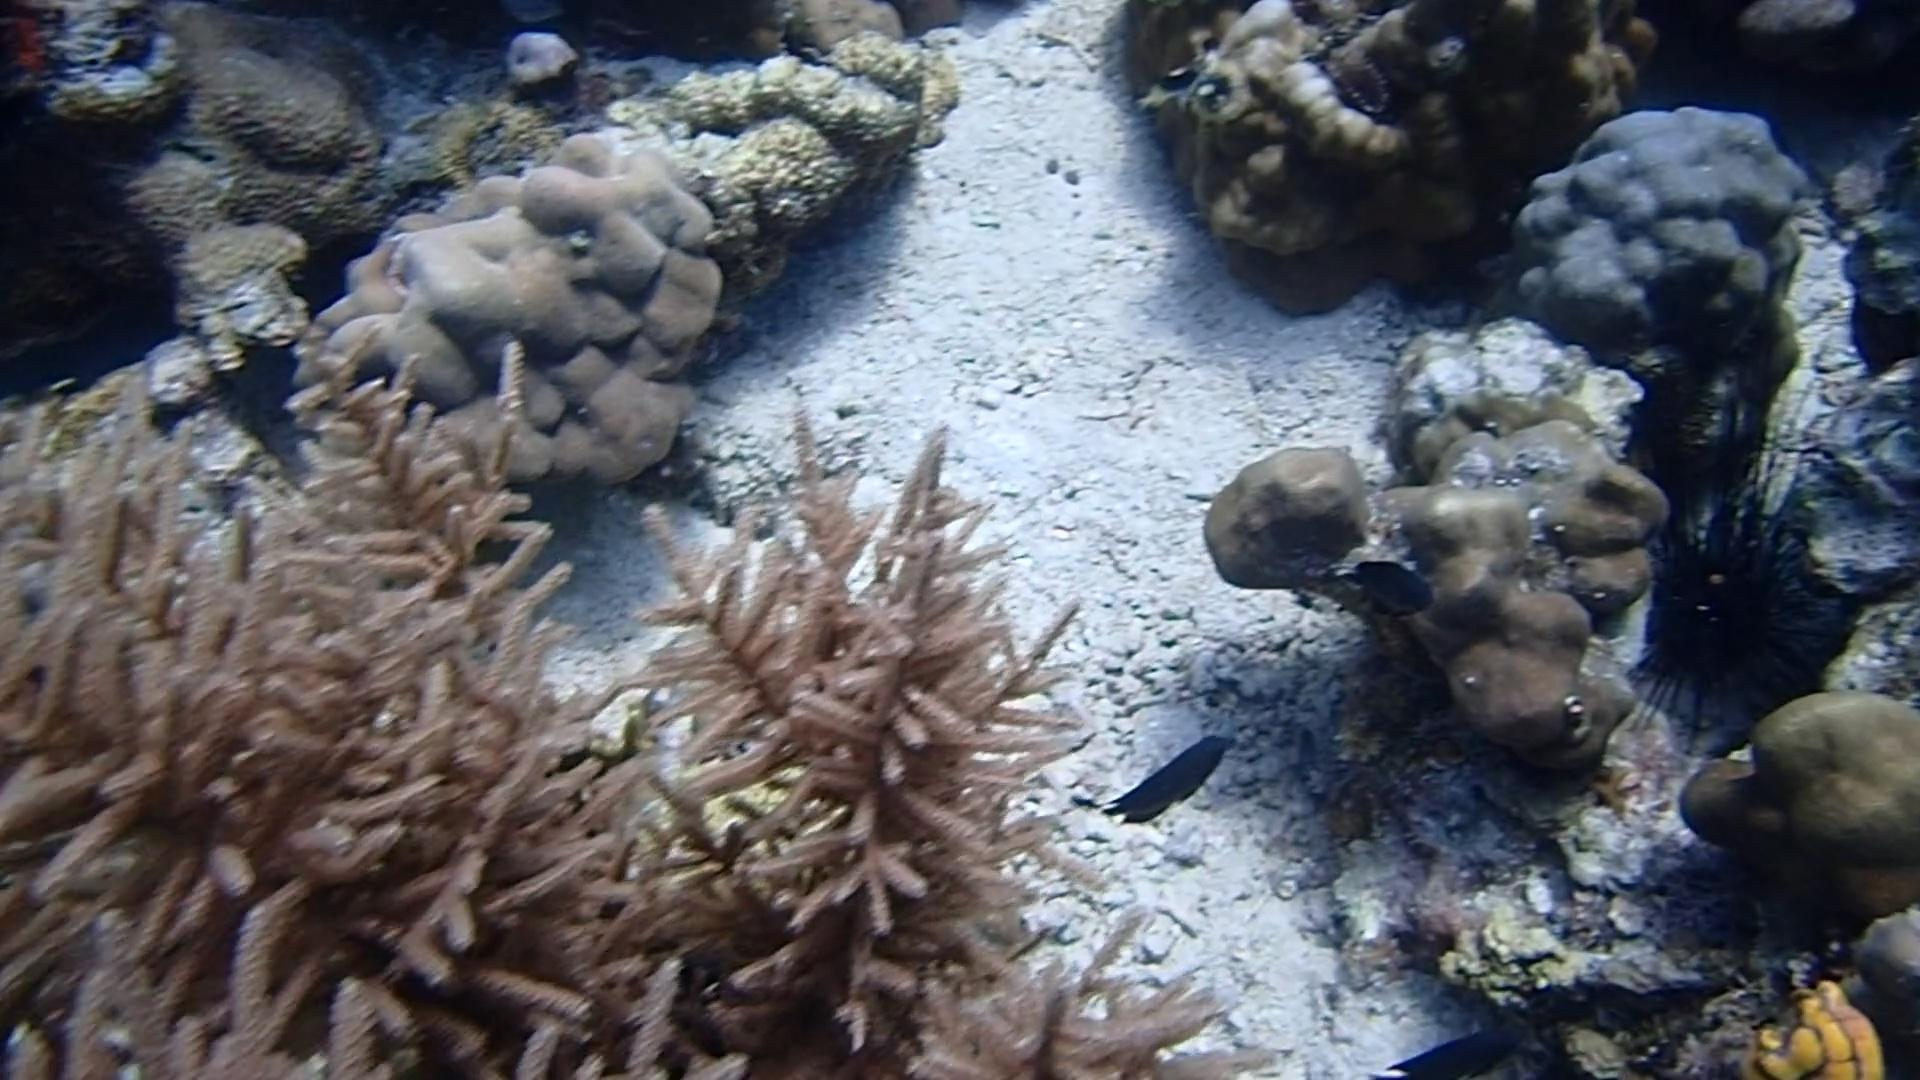Dark Fish: (1091, 728, 1238, 828), (1377, 1018, 1526, 1080), (1327, 546, 1439, 625)
Yellow Tail: (1129, 51, 1215, 116)
